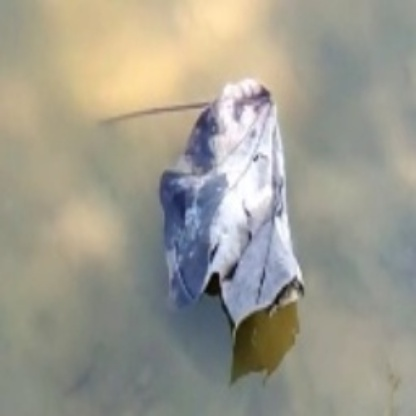leaf: (104, 73, 319, 333)
